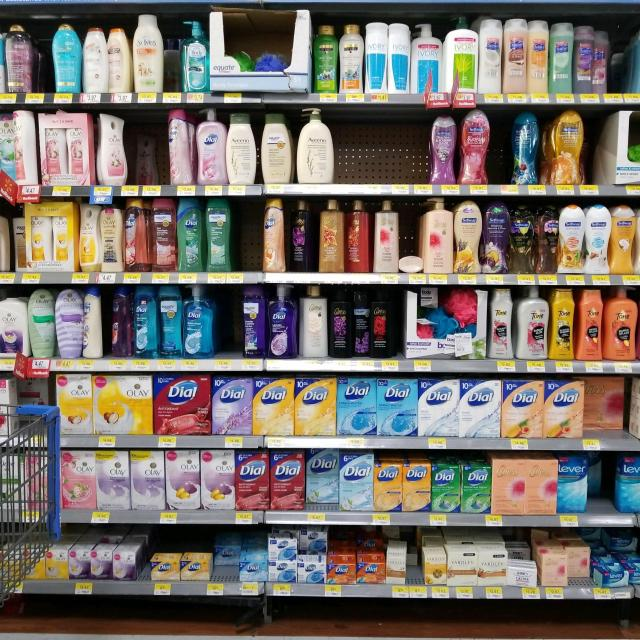void: (334, 106, 429, 184), (132, 115, 167, 189), (210, 286, 241, 350), (236, 201, 264, 267), (32, 30, 54, 94), (492, 115, 508, 182), (592, 461, 614, 508), (585, 118, 599, 187), (138, 539, 155, 577)
